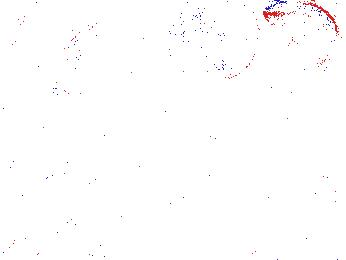moon jellyfish: (49, 21, 166, 98), (43, 94, 140, 166), (181, 1, 260, 80), (262, 2, 340, 69)
